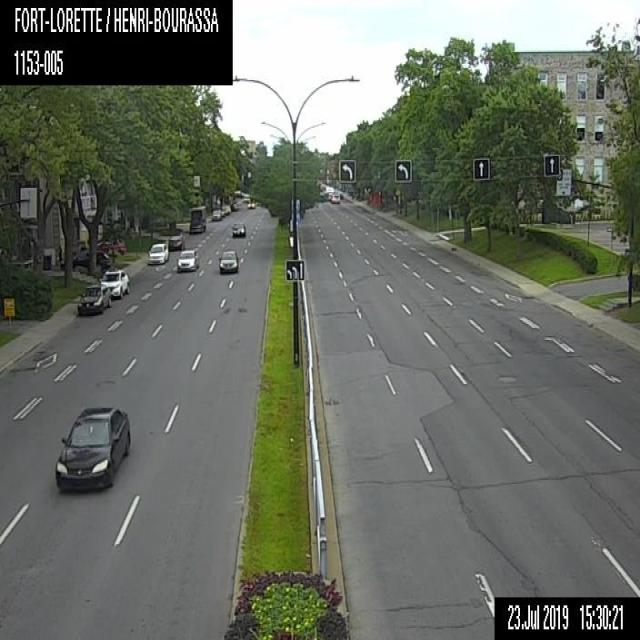vehicle: (54, 401, 131, 495), (60, 249, 109, 276), (76, 284, 110, 316), (100, 268, 130, 296), (97, 235, 124, 253), (146, 242, 168, 264), (189, 204, 206, 232), (219, 247, 238, 272), (176, 249, 197, 271), (168, 231, 185, 250), (232, 222, 246, 236), (325, 185, 333, 199), (330, 192, 341, 202), (212, 209, 222, 219), (246, 198, 255, 208), (230, 200, 238, 208), (223, 204, 230, 212), (219, 207, 225, 216)
